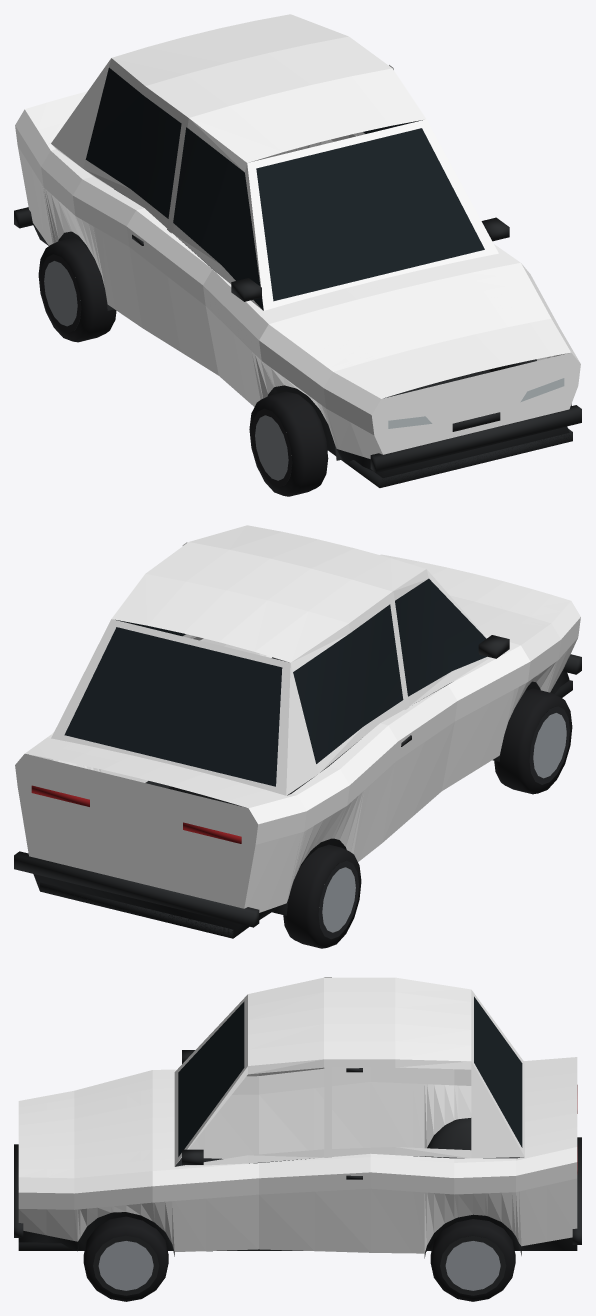
Rendered from tomoe_faia.glb.
The picture shows the model from 3 angles, top to bottom: view 1: azimuth 30°, elevation 25°; view 2: azimuth 150°, elevation 25°; view 3: azimuth 270°, elevation 25°; orthographic projection. The views are drawn at different scales.
Parts seen in each view (by area): view 1: Body_Paint, Body_Details, Mount_FrontLeft_Wheel_Details, Mount_RearLeft_Wheel_Details; view 2: Body_Paint, Body_Details, Mount_RearLeft_Wheel_Details, Mount_FrontLeft_Wheel_Details; view 3: Body_Paint, Body_Details, Mount_FrontRight_Wheel_Details, Mount_RearRight_Wheel_Details.
Boxes of the visible parts, x1,y1,x2,y2 form: Body_Paint: (15, 14, 580, 458); Body_Details: (14, 67, 581, 487); Mount_FrontLeft_Wheel_Details: (249, 391, 328, 496); Mount_RearLeft_Wheel_Details: (38, 237, 116, 342); Body_Paint: (15, 525, 580, 912); Body_Details: (14, 578, 581, 938); Mount_RearLeft_Wheel_Details: (283, 844, 361, 948); Mount_FrontLeft_Wheel_Details: (494, 688, 572, 794); Body_Paint: (18, 977, 577, 1253); Body_Details: (14, 996, 581, 1258); Mount_FrontRight_Wheel_Details: (83, 1216, 168, 1301); Mount_RearRight_Wheel_Details: (430, 1219, 515, 1301).
Size of the model in its own units: 1.58 by 1.54 by 3.4.
Materials: 2 (1 with a texture image).
